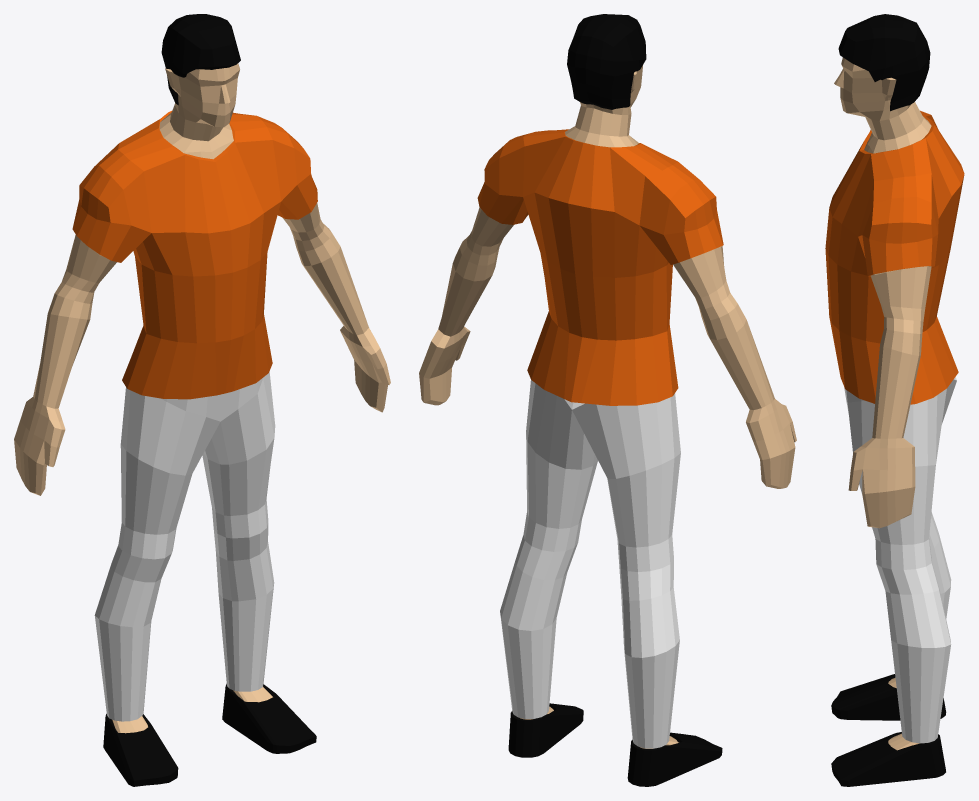
The model's file is player.glb.
The picture shows the model from 3 angles, left to right: view 1: azimuth 30°, elevation 25°; view 2: azimuth 150°, elevation 25°; view 3: azimuth 270°, elevation 25°; orthographic projection.
Visible parts, largest first — view 1: Human full; view 2: Human full; view 3: Human full.
Boxes of the visible parts, x1=… form: Human full: x1=14, y1=14, x2=390, y2=786; Human full: x1=419, y1=14, x2=796, y2=786; Human full: x1=825, y1=14, x2=964, y2=786.
Bounding box in the file's own units: 1.02 × 1.99 × 0.348.
